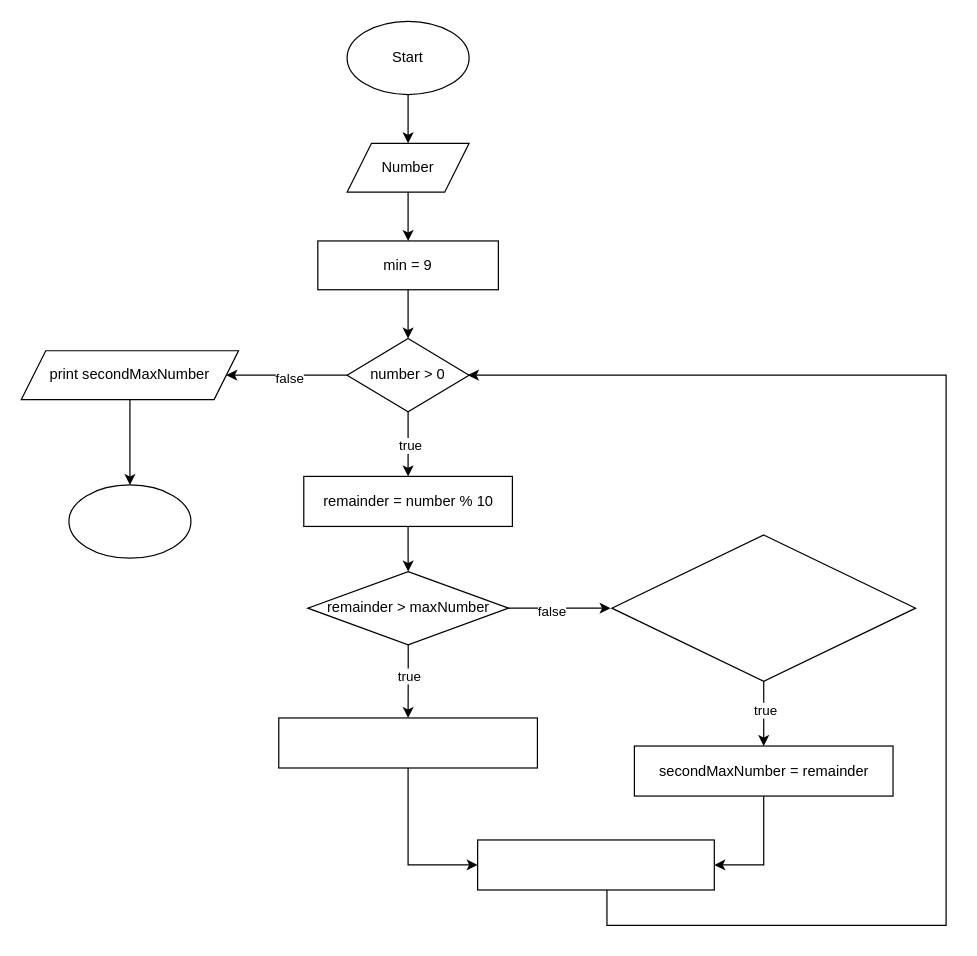
Image size: 977x956. Some labels were removed from this diagram. Each missing label, with the centre of its shape:
"End" belongs at [129,521].
"number = Math.floor(number/10)" belongs at [595,864].
"remainder > secondMaxNumber && remainder < maxNumber" belongs at [763,607].
"secondMaxNumber = maxNumber maxNumber = remainder" belongs at [407,742].
